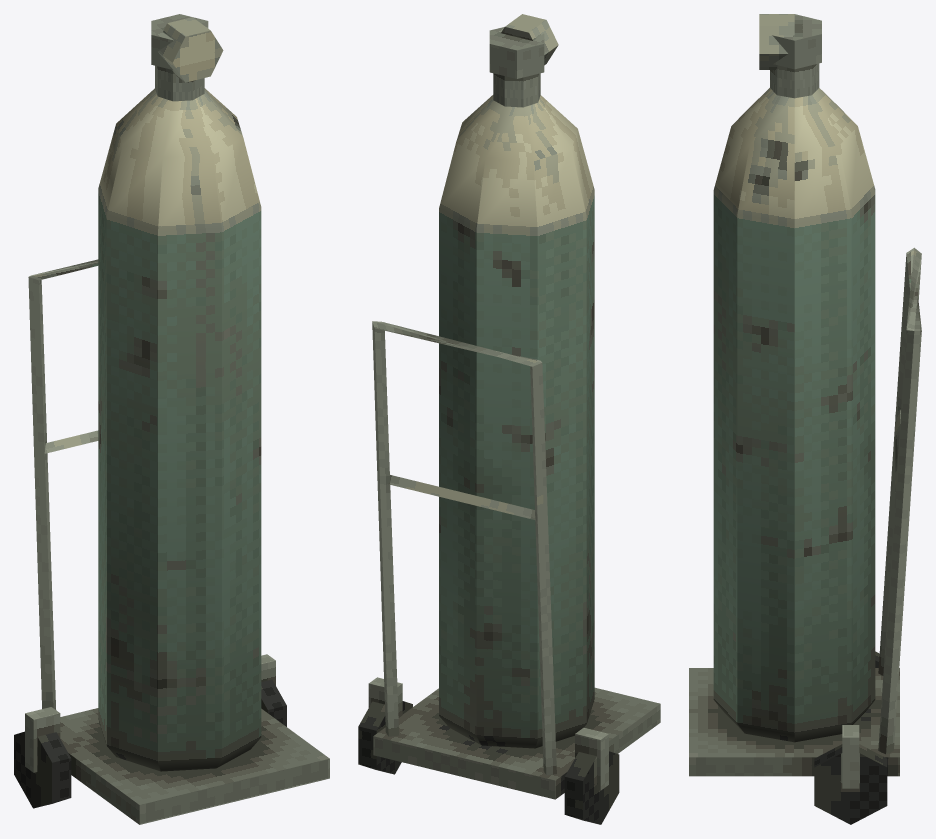
File: Oxygen_Tank_01.glb
3 views of the same model, side by side, from view 1: azimuth 30°, elevation 25°; view 2: azimuth 150°, elevation 25°; view 3: azimuth 270°, elevation 25° (orthographic). The views are drawn at different scales.
Parts seen in each view (by area): view 1: Oxygen_Tank_01; view 2: Oxygen_Tank_01; view 3: Oxygen_Tank_01.
Part boxes in pixels (<box>): Oxygen_Tank_01: <box>14,14,329,824</box>; Oxygen_Tank_01: <box>358,14,660,824</box>; Oxygen_Tank_01: <box>689,14,921,824</box>.
Size of the model in its own units: 0.382 by 1.18 by 0.331.
1 material, 1 textured.
